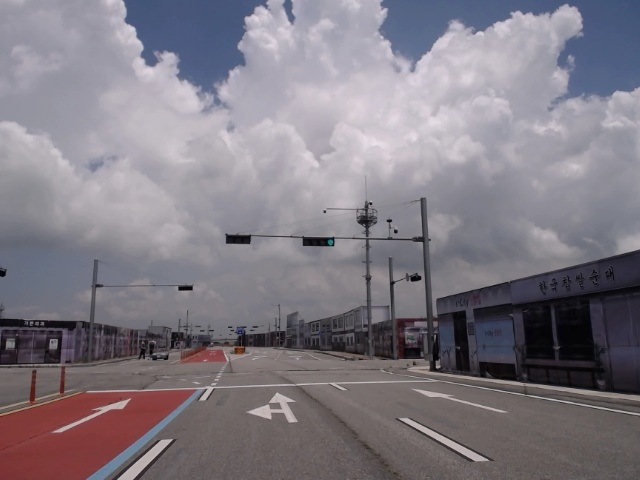straight_green_4: (301, 235, 335, 247)
